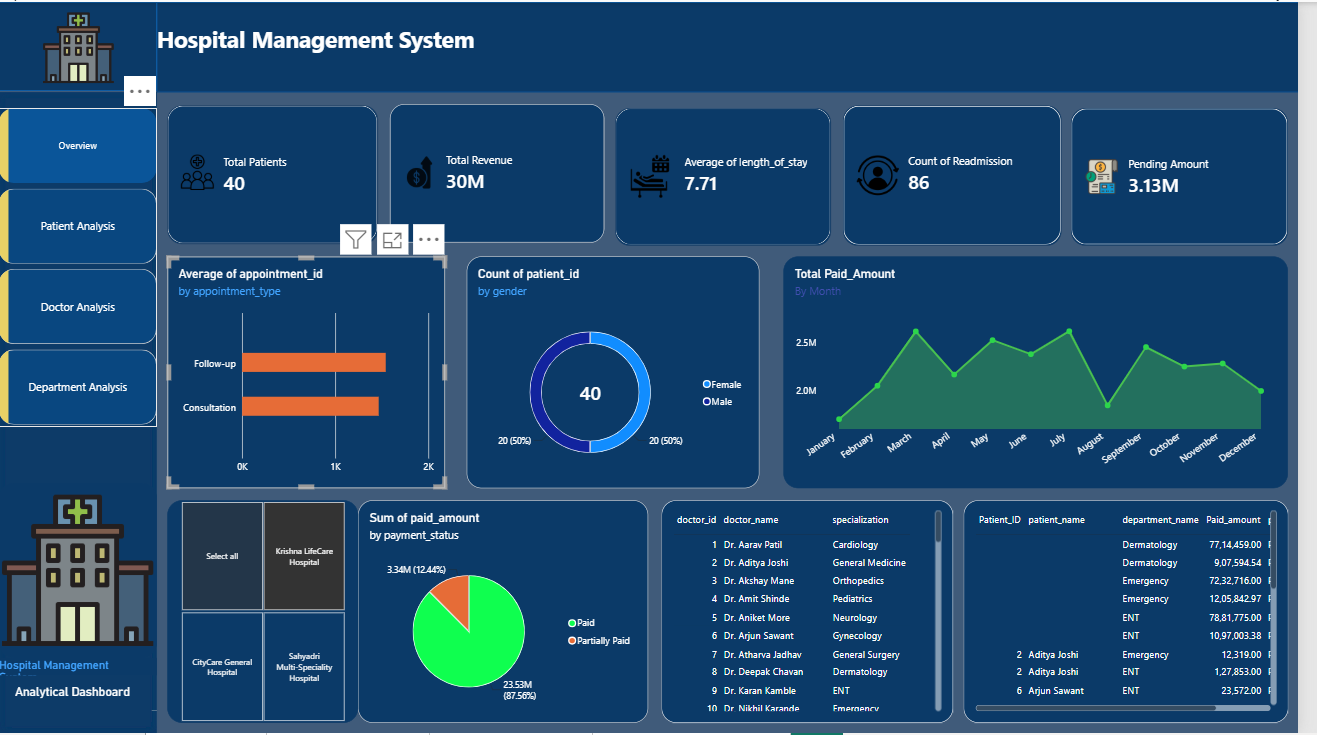

Layout of this report page (visuals, bound fields, positions):
{"tool":"powerbi","page":{"name":"Overview","canvas":[1920,1080],"ordinal":0},"visuals":[{"type":"shape","box":[0,133.7,233.3,946.9],"z":0},{"type":"shape","title":"Analytics Dashboard","box":[233.3,0,1687.6,133.7],"z":1000},{"type":"shape","box":[0,0,233.3,131.4],"z":2000},{"type":"cardVisual","fields":{"Data":["CountNonNull(patient (2).patient_id)"]},"box":[248.7,152.7,311.3,205.6],"z":3000},{"type":"cardVisual","fields":{"Data":["Sum(bill.total_amount)"]},"box":[577.6,150.8,317.2,205.6],"z":4000},{"type":"cardVisual","fields":{"Data":["Avg(admission.length_of_stay)"]},"box":[910.5,156.6,319.2,203.6],"z":5000},{"type":"cardVisual","fields":{"Data":["admission.ReAdmission"]},"box":[1247.3,152.7,323.1,207.5],"z":6000},{"type":"cardVisual","fields":{"Data":["Sum(bill.pending_amount)"]},"box":[1584,156.6,321.1,203.6],"z":7000},{"type":"clusteredBarChart","fields":{"Category":["appointment.appointment_type"],"Y":["Avg(appointment.appointment_id)"]},"box":[248.7,375.9,411.2,342.7],"z":8000},{"type":"donutChart","fields":{"Category":["patient (2).gender"],"Y":["CountNonNull(patient (2).patient_id)"]},"box":[691.2,375.9,432.7,342.7],"z":9000},{"type":"lineChart","title":"Total Paid_Amount","fields":{"Category":["bill.bill_date.Variation.Date Hierarchy.Month"],"Y":["Sum(bill.paid_amount)"]},"box":[1159.1,375.9,746,342.7],"z":10000},{"type":"pieChart","fields":{"Category":["bill.payment_status"],"Y":["Sum(bill.paid_amount)"]},"box":[530.6,736.2,428.8,328.9],"z":11000},{"type":"tableEx","fields":{"Values":["doctor.doctor_id","doctor.doctor_name","doctor.specialization"]},"box":[979,736.2,430.8,328.9],"z":12000},{"type":"tableEx","fields":{"Values":["patient (2).patient_id","patient (2).patient_name","department.department_name","Sum(bill.paid_amount)","bill.payment_status"]},"box":[1425.4,736.2,479.7,328.9],"z":13000},{"type":"image","box":[0,710.8,233,258.5],"z":14000},{"type":"textbox","title":"Hospital Management System","box":[0,969.2,233,25.5],"z":15000},{"type":"textbox","title":"Analytical Dashboard","box":[23.5,1008.4,209.5,39.2],"z":16000},{"type":"slicer","fields":{"Values":["hospital.hospital_name"]},"box":[248.7,736.2,282,328.9],"z":17000},{"type":"image","box":[29.4,13.7,176.2,107.7],"z":18000},{"type":"pageNavigator","box":[0,156.6,233,471.9],"z":19000}]}

Visuals, with their boxes on the page's 1920x1080 design canvas (x1, y1, x2, y2). These are canvas units, not pixel positions in the 1317x735 screenshot, which may show the page scaled, cropped or inside an application window:
shape: left=0, top=134, right=233, bottom=1081
"Analytics Dashboard" shape: left=233, top=0, right=1921, bottom=134
shape: left=0, top=0, right=233, bottom=131
cardVisual - CountNonNull(patient (2).patient_id): left=249, top=153, right=560, bottom=358
cardVisual - Sum(bill.total_amount): left=578, top=151, right=895, bottom=356
cardVisual - Avg(admission.length_of_stay): left=910, top=157, right=1230, bottom=360
cardVisual - admission.ReAdmission: left=1247, top=153, right=1570, bottom=360
cardVisual - Sum(bill.pending_amount): left=1584, top=157, right=1905, bottom=360
clusteredBarChart - appointment.appointment_type x Avg(appointment.appointment_id): left=249, top=376, right=660, bottom=719
donutChart - patient (2).gender x CountNonNull(patient (2).patient_id): left=691, top=376, right=1124, bottom=719
"Total Paid_Amount" lineChart: left=1159, top=376, right=1905, bottom=719
pieChart - bill.payment_status x Sum(bill.paid_amount): left=531, top=736, right=959, bottom=1065
tableEx - doctor.doctor_id x doctor.doctor_name: left=979, top=736, right=1410, bottom=1065
tableEx - patient (2).patient_id x patient (2).patient_name: left=1425, top=736, right=1905, bottom=1065
image: left=0, top=711, right=233, bottom=969
"Hospital Management System" textbox: left=0, top=969, right=233, bottom=995
"Analytical Dashboard" textbox: left=24, top=1008, right=233, bottom=1048
slicer - hospital.hospital_name: left=249, top=736, right=531, bottom=1065
image: left=29, top=14, right=206, bottom=121
pageNavigator: left=0, top=157, right=233, bottom=628
